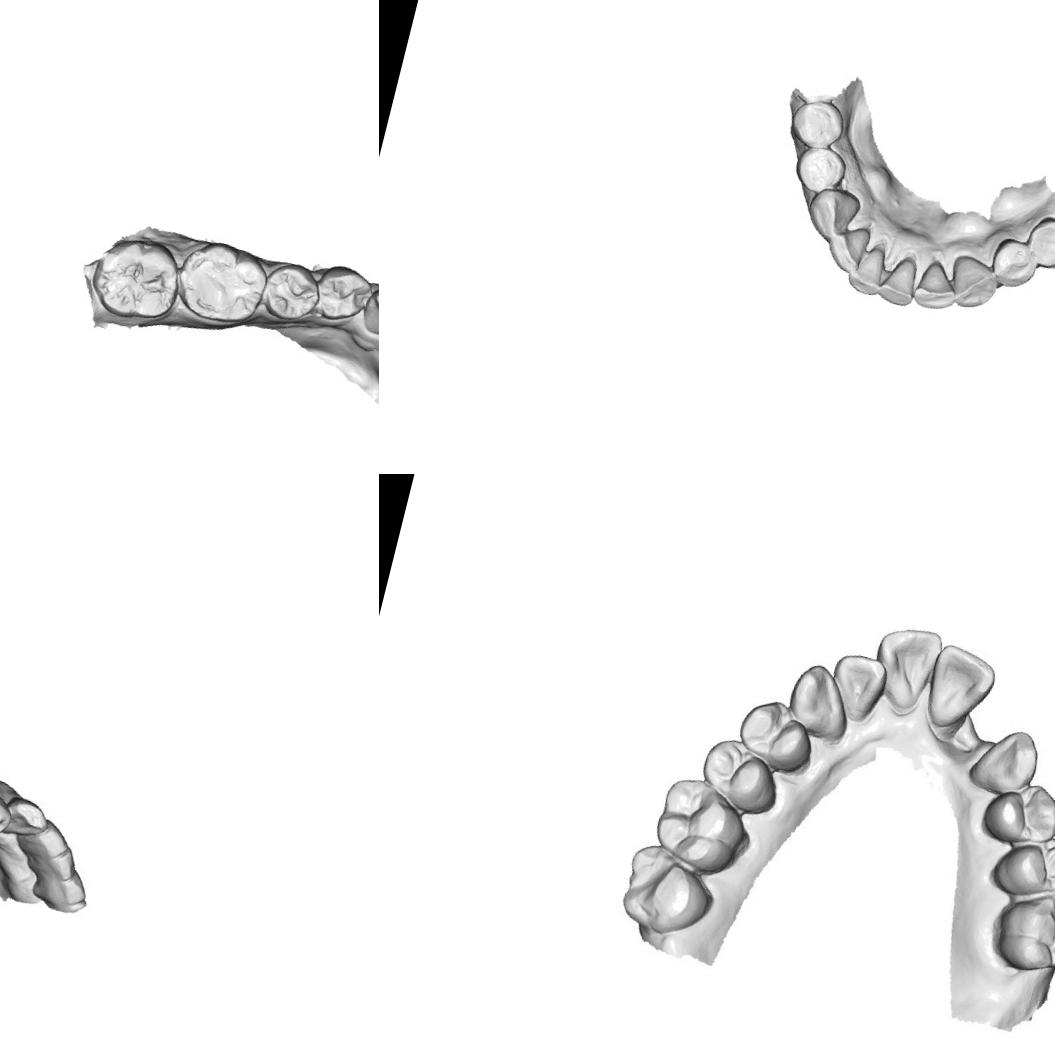canine: (779, 657, 855, 740), (968, 721, 1044, 798), (802, 182, 864, 246), (942, 252, 1003, 314), (2, 790, 52, 839), (354, 281, 379, 346)
incisor: (920, 640, 1002, 736), (864, 620, 941, 716), (828, 652, 886, 718), (28, 863, 92, 916), (909, 255, 963, 314), (14, 812, 72, 865), (24, 840, 84, 890), (842, 238, 890, 298), (821, 220, 872, 276), (874, 250, 922, 308)
molar: (641, 770, 759, 884), (611, 837, 720, 946), (170, 232, 274, 334), (83, 230, 188, 328), (980, 869, 1055, 987)
premolar: (728, 687, 818, 780), (692, 731, 786, 819), (973, 773, 1055, 856), (986, 821, 1055, 910), (257, 255, 324, 328), (311, 258, 376, 328), (785, 93, 849, 154), (788, 140, 850, 198), (985, 233, 1042, 293), (1021, 212, 1055, 273), (0, 779, 16, 844)
